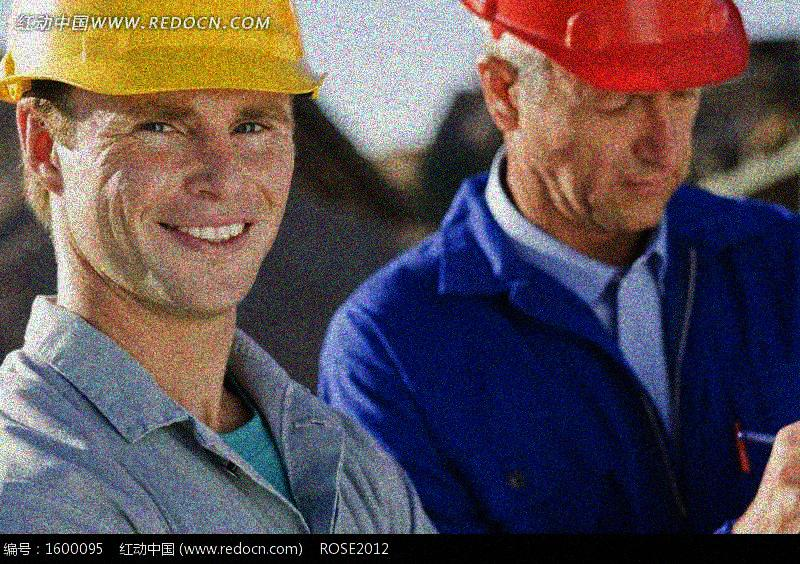helmet: (1, 1, 328, 319), (458, 1, 751, 245)
